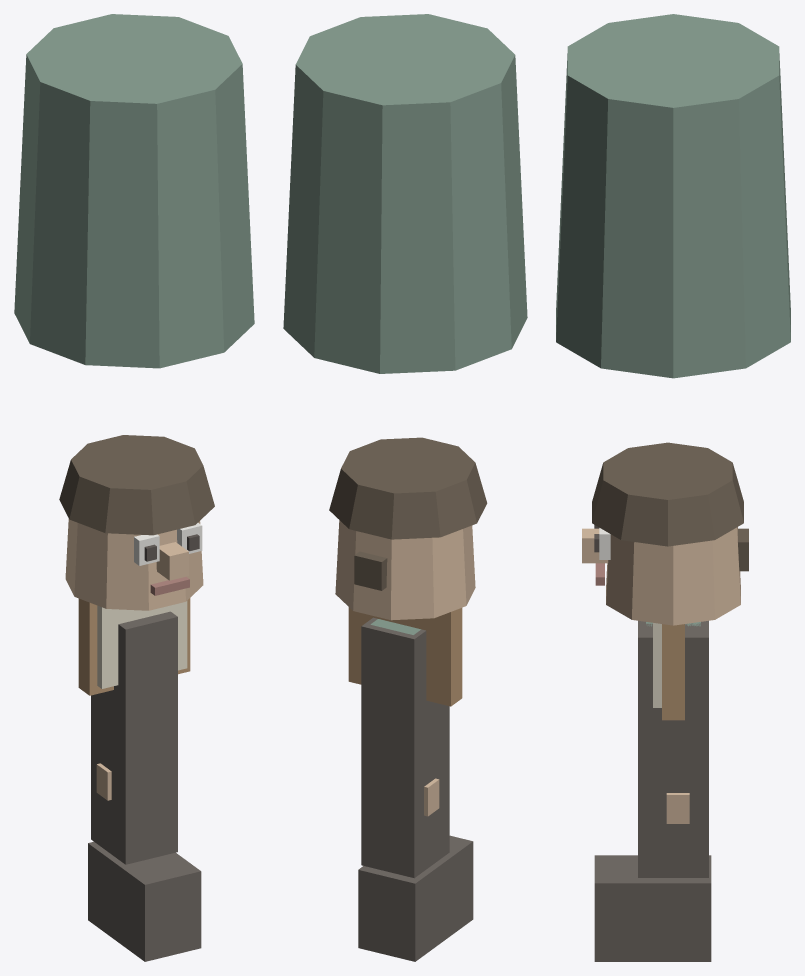
Rendered from npc_wren.glb.
The picture shows the model from 3 angles, left to right: view 1: azimuth 30°, elevation 25°; view 2: azimuth 150°, elevation 25°; view 3: azimuth 270°, elevation 25°; orthographic projection. The views are drawn at different scales.
Visible parts, largest first — view 1: Torso, LimbLegL, Hair, BootL, Head, PropLedgerPages, PropLedger, Nose, EyeWhiteL; view 2: Torso, LimbLegL, Hair, Head, BootL, PropLedger, HairTail; view 3: Torso, LimbLegL, Hair, BootL, Head, PropLedger, PropLedgerPages, ThumbL, Nose.
Part boxes in pixels (x1,y1,x2,y2): Torso: (14, 14, 254, 368); LimbLegL: (91, 611, 177, 864); Hair: (59, 435, 214, 535); BootL: (88, 841, 201, 961); Head: (65, 518, 203, 610); PropLedgerPages: (97, 601, 187, 688); PropLedger: (78, 598, 190, 695); Nose: (156, 542, 188, 580); EyeWhiteL: (134, 534, 159, 565); Torso: (283, 14, 527, 373); LimbLegL: (361, 617, 449, 878); Hair: (329, 437, 487, 539); Head: (335, 520, 475, 620); BootL: (358, 835, 473, 961); PropLedger: (348, 607, 462, 706); HairTail: (354, 551, 387, 590); Torso: (556, 14, 790, 378); LimbLegL: (638, 620, 708, 877); Hair: (592, 442, 743, 546); BootL: (594, 855, 711, 961); Head: (606, 527, 740, 625); PropLedger: (662, 624, 684, 720); PropLedgerPages: (653, 623, 661, 707); ThumbL: (666, 793, 689, 823); Nose: (582, 528, 607, 563).
Bounding box in the file's own units: 0.54 × 2.14 × 0.5136.
